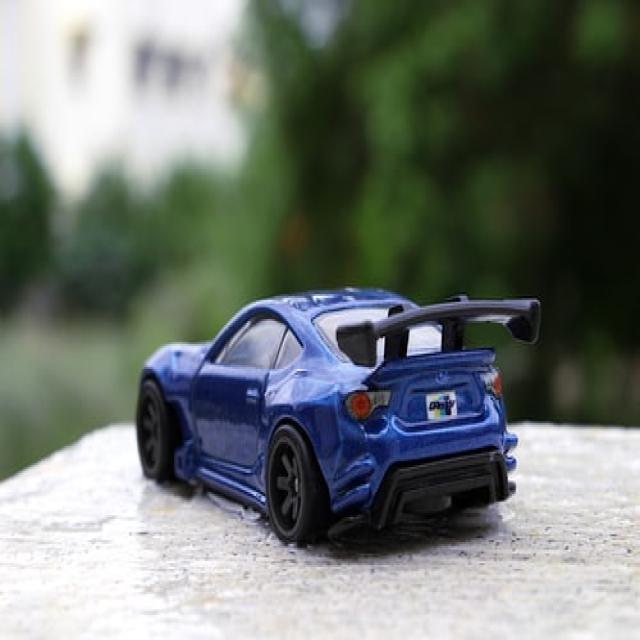Car: (134, 284, 542, 546)
